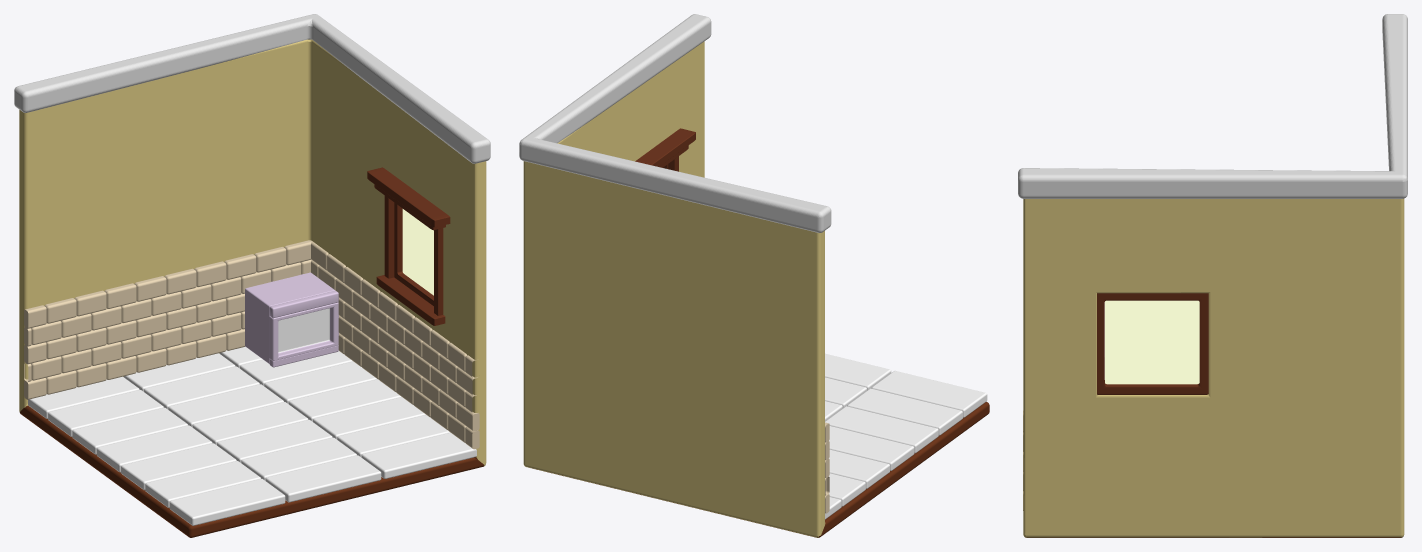
The model's file is project6.glb.
3 views of the same model, side by side, from view 1: azimuth 30°, elevation 25°; view 2: azimuth 150°, elevation 25°; view 3: azimuth 270°, elevation 25° (orthographic). The views are drawn at different scales.
Parts seen in each view (by area): view 1: Cube, Cube.009, Cube.010, Cube.002, Cube.011, Cube.013, Cube.016, Plane, Cube.005, Cube.003, Cube.006, Cube.015 (+2 smaller); view 2: Cube, Cube.002, Cube.009, Cube.005; view 3: Cube, Cube.002, Plane, Cube.006.
Boxes of the visible parts, box(x1,y1,x2,y2) form: Cube: box(19, 39, 486, 537); Cube.009: box(28, 346, 476, 525); Cube.010: box(24, 240, 312, 399); Cube.002: box(14, 14, 490, 163); Cube.011: box(311, 241, 479, 449); Cube.013: box(245, 272, 334, 363); Cube.016: box(269, 302, 338, 360); Plane: box(402, 209, 433, 295); Cube.005: box(367, 167, 450, 227); Cube.003: box(376, 275, 445, 325); Cube.006: box(394, 202, 433, 305); Cube.015: box(269, 290, 338, 318); Cube: box(523, 41, 989, 537); Cube.002: box(519, 14, 831, 232); Cube.009: box(825, 353, 987, 519); Cube.005: box(635, 128, 695, 166); Cube: box(1023, 198, 1404, 537); Cube.002: box(1018, 14, 1407, 198); Plane: box(1105, 300, 1199, 384); Cube.006: box(1097, 293, 1208, 394).
Size of the model in its own units: 7.16 by 7.38 by 7.16.
